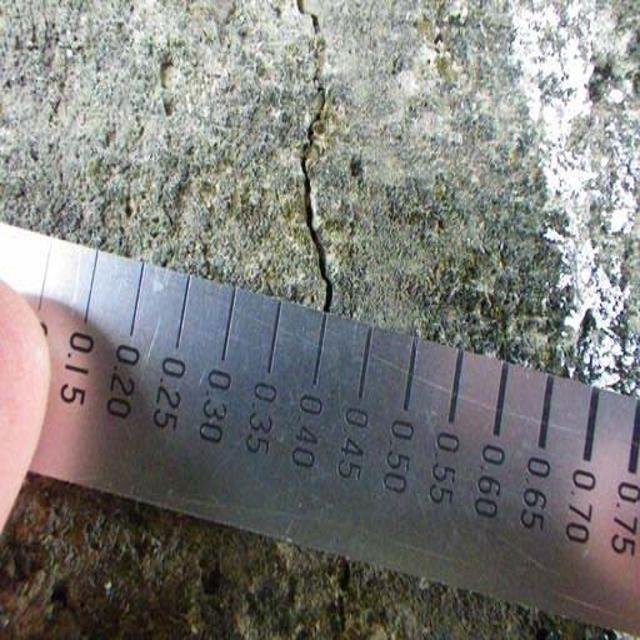crack: (286, 6, 374, 307)
